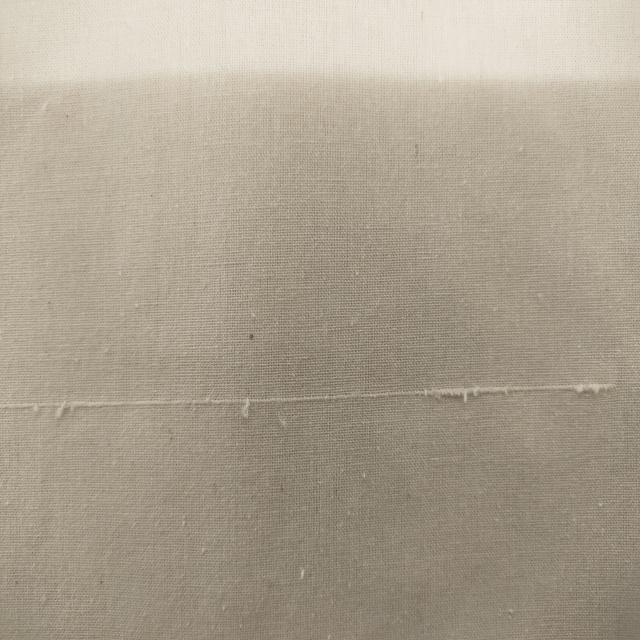Thread_other: (10, 337, 632, 460)
